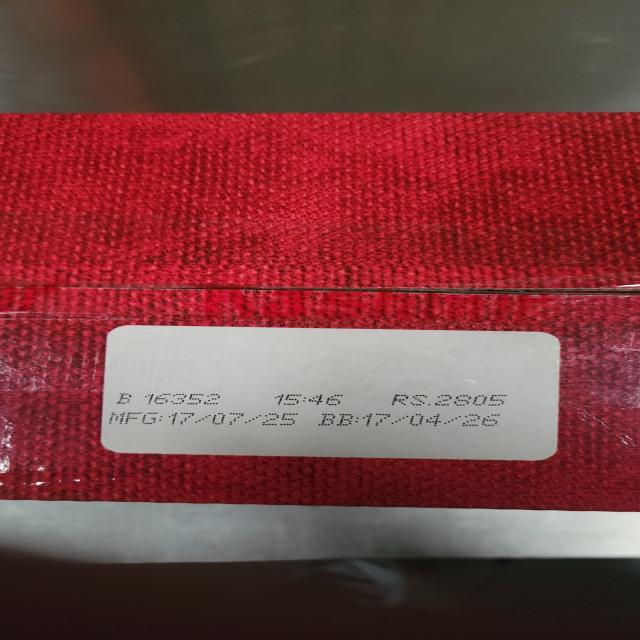BB: (320, 412, 505, 428)
Batch: (117, 393, 221, 405)
MFG: (110, 411, 300, 426)
RS: (391, 394, 511, 407)
TimeStamp: (272, 394, 346, 406)
